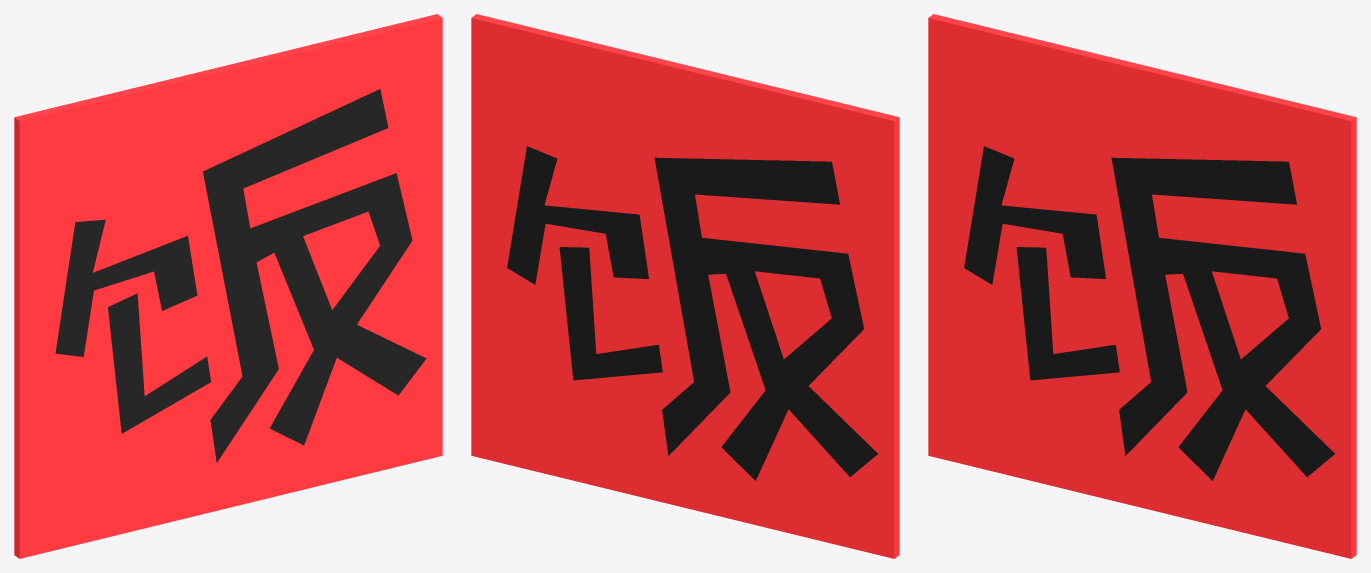
File: scifi-scifi-projection-c.glb
3 views of the same model, side by side, from view 1: azimuth 30°, elevation 25°; view 2: azimuth 150°, elevation 25°; view 3: azimuth 330°, elevation 25° (orthographic).
Visible parts, largest first — view 1: scifi-projection-c; view 2: scifi-projection-c; view 3: scifi-projection-c.
Part boxes in pixels (x1,y1,x2,y2): scifi-projection-c: [14, 14, 442, 558]; scifi-projection-c: [471, 14, 899, 558]; scifi-projection-c: [928, 14, 1356, 558].
Size of the model in its own units: 2.28 by 2.26 by 0.05.
